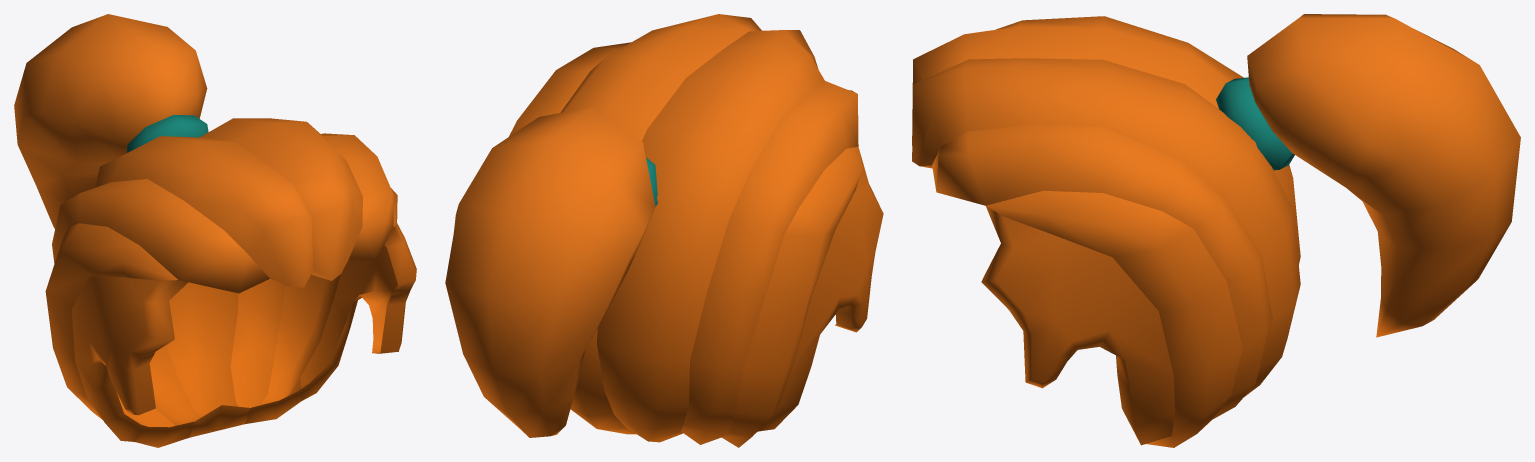
File: Hair_Orange_11.fbx
3 views of the same model, side by side, from view 1: azimuth 30°, elevation 25°; view 2: azimuth 150°, elevation 25°; view 3: azimuth 270°, elevation 25° (orthographic). The views are drawn at different scales.
Parts seen in each view (by area): view 1: Hair_Orange_11; view 2: Hair_Orange_11; view 3: Hair_Orange_11.
Part boxes in pixels (x1=…): Hair_Orange_11: x1=14, y1=14, x2=416, y2=447; Hair_Orange_11: x1=445, y1=14, x2=883, y2=447; Hair_Orange_11: x1=912, y1=14, x2=1520, y2=447.
Bounding box in the file's own units: 54.98 × 59.13 × 83.25.
